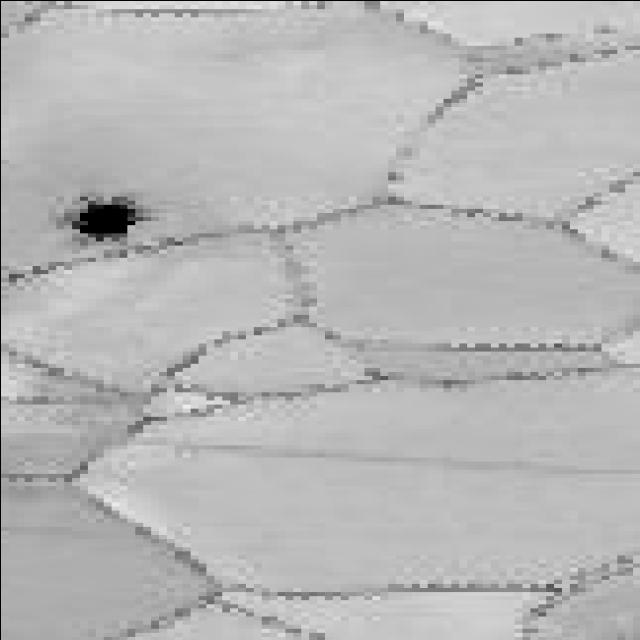good_void: (57, 191, 158, 246)
